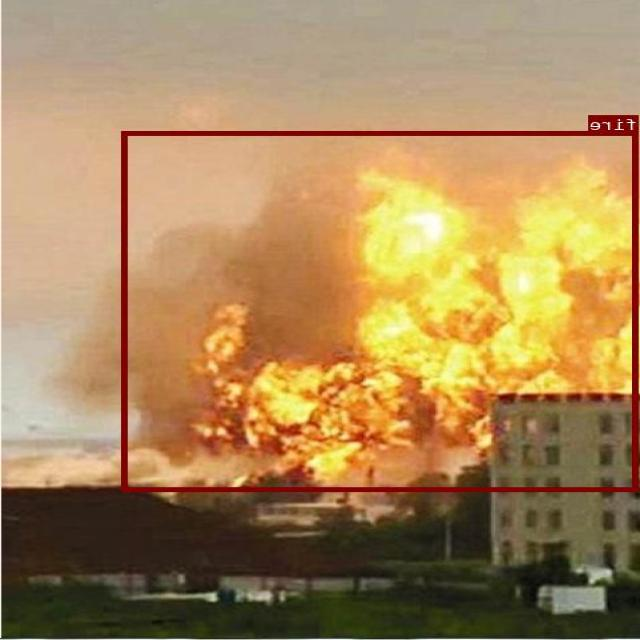fire: (123, 130, 640, 491)
